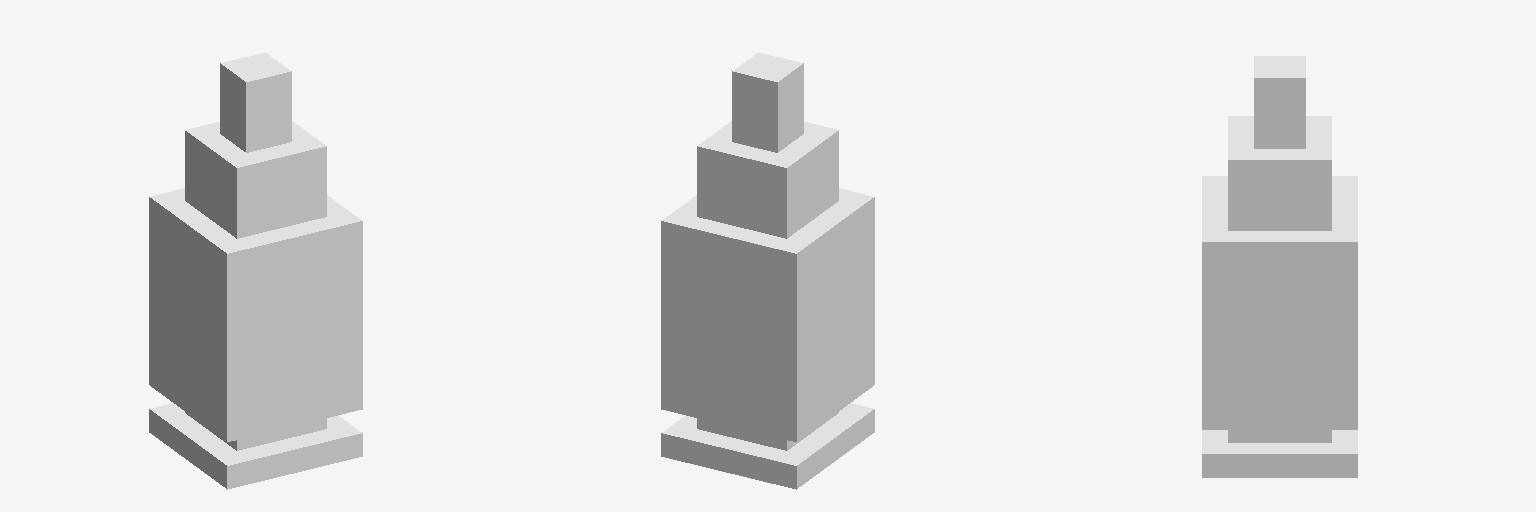
Rendered from big_ammo.obj.
3 views of the same model, side by side, from view 1: azimuth 30°, elevation 25°; view 2: azimuth 150°, elevation 25°; view 3: azimuth 270°, elevation 25° (orthographic).
Parts seen in each view (by area): view 1: object 1; view 2: object 1; view 3: object 1.
Boxes of the visible parts, <box> form: object 1: <box>149,52,362,489</box>; object 1: <box>661,52,874,489</box>; object 1: <box>1202,56,1357,477</box>.
Size of the model in its own units: 0.6 by 1.6 by 0.6.